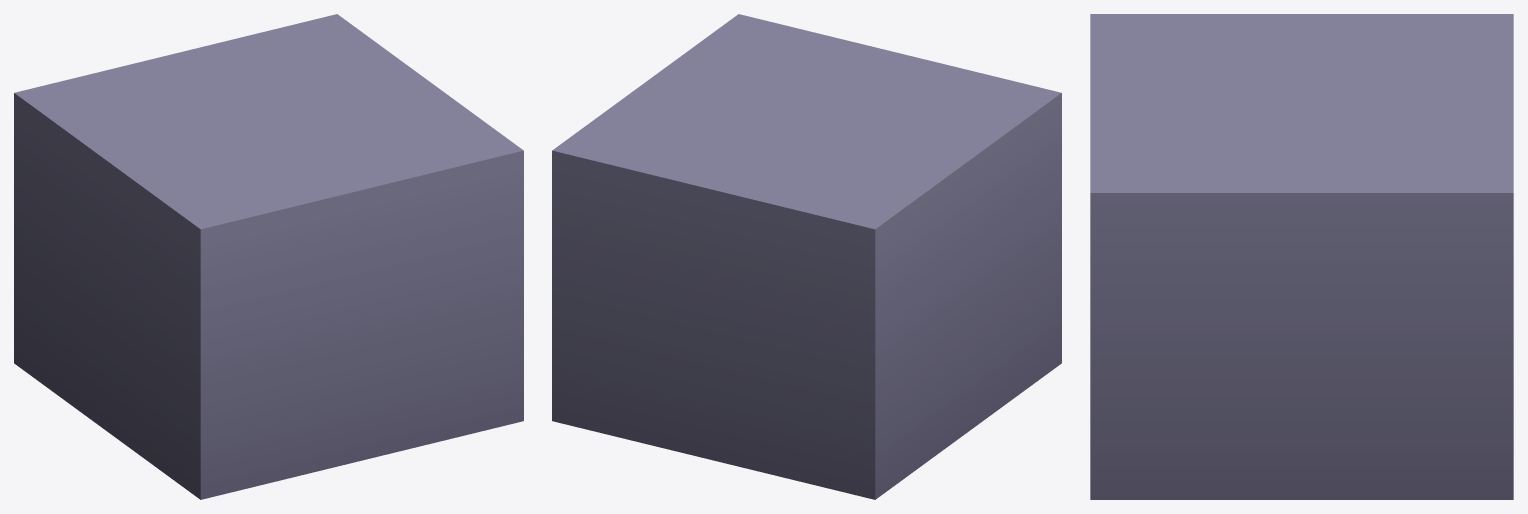
Rendered from bowl-platform.glb.
3 views of the same model, side by side, from view 1: azimuth 30°, elevation 25°; view 2: azimuth 150°, elevation 25°; view 3: azimuth 270°, elevation 25° (orthographic). The views are drawn at different scales.
Parts seen in each view (by area): view 1: bowl-platform; view 2: bowl-platform; view 3: bowl-platform.
Boxes of the visible parts, <box> form: bowl-platform: <box>14,14,523,499</box>; bowl-platform: <box>552,14,1061,499</box>; bowl-platform: <box>1090,14,1513,499</box>.
Size of the model in its own units: 1 by 0.8 by 1.
1 material, 1 textured.
